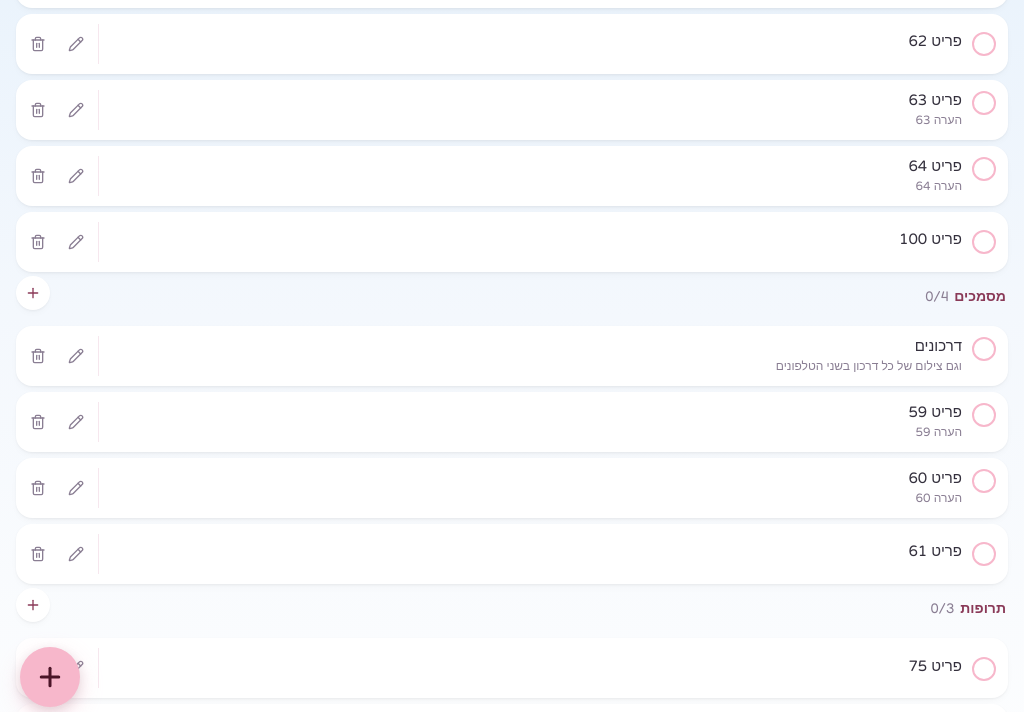
Test case: an item card › takes the category off from its "Other" chip
Later steps or results of the test are not shown.
(page scrolled)
Click the button named "עריכת דרכונים" at (76, 356), box [58,336,94,376]
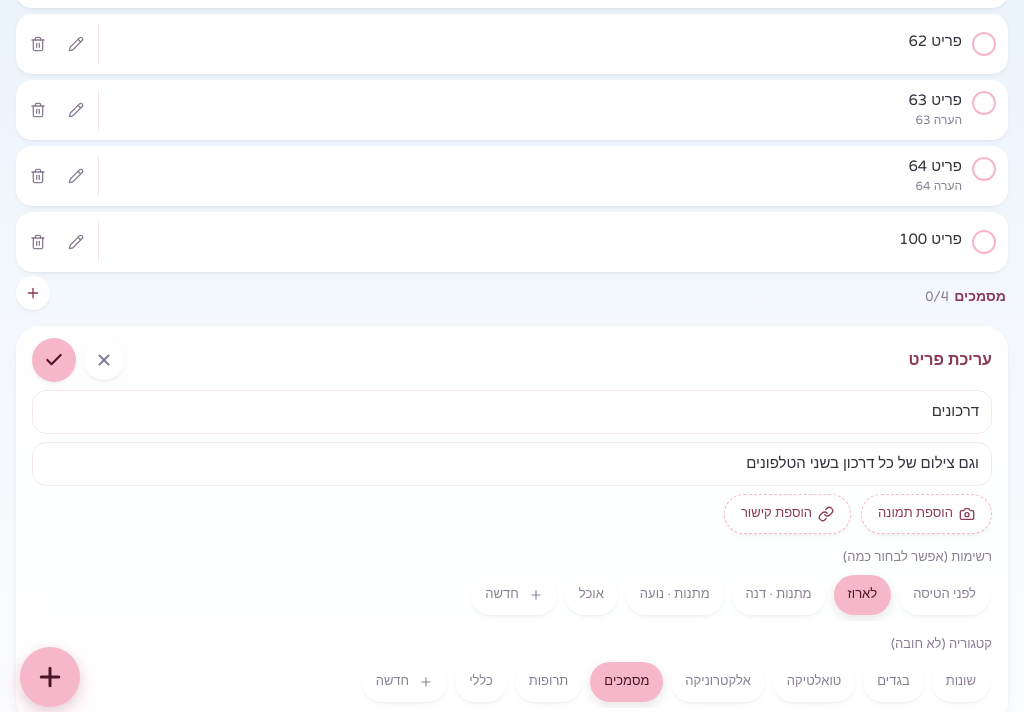
Click the button "שונות" at (961, 682), box [932,662,990,702]
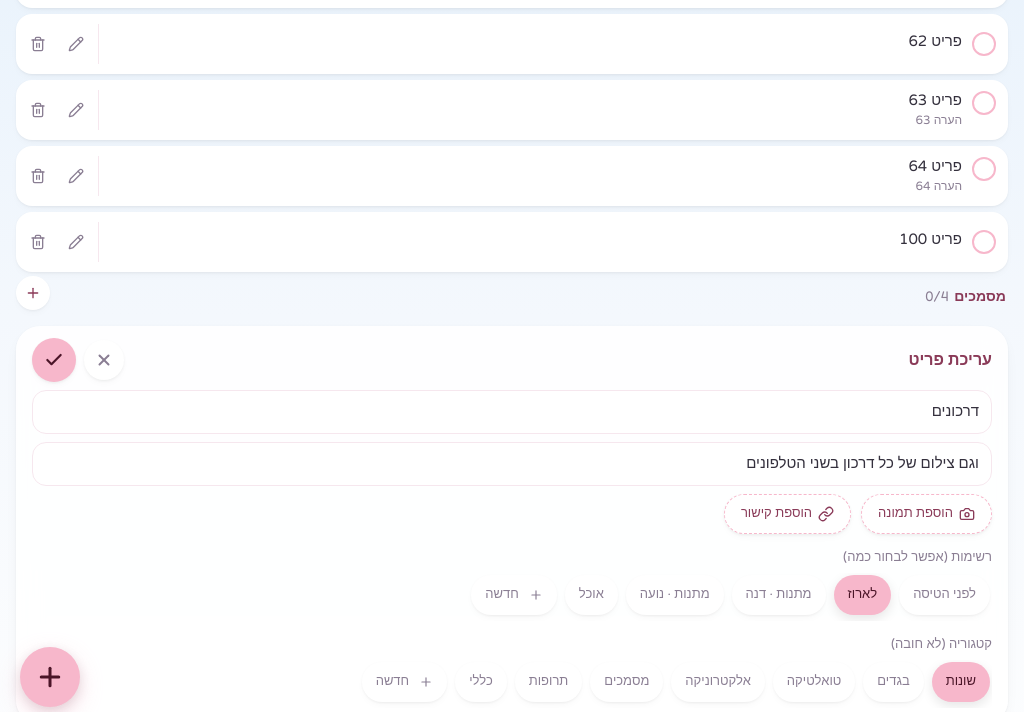
Now the button "שונות" is pressed, box [932,662,990,702]
